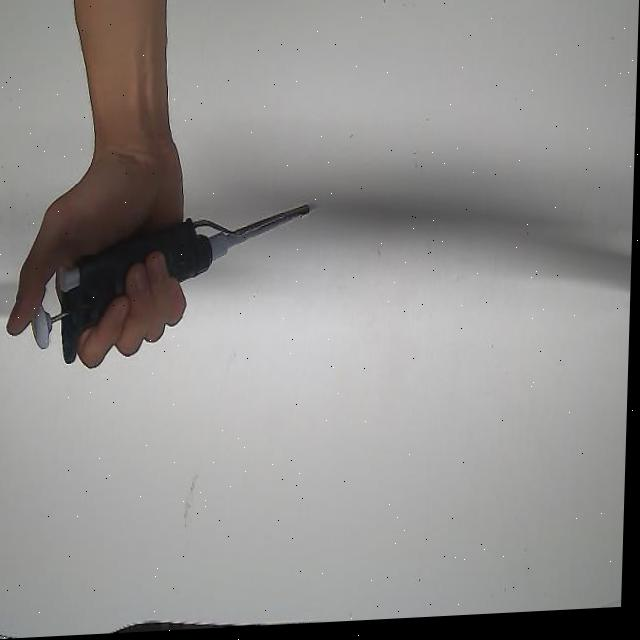Single Channel Pipettor: (32, 206, 315, 367)
